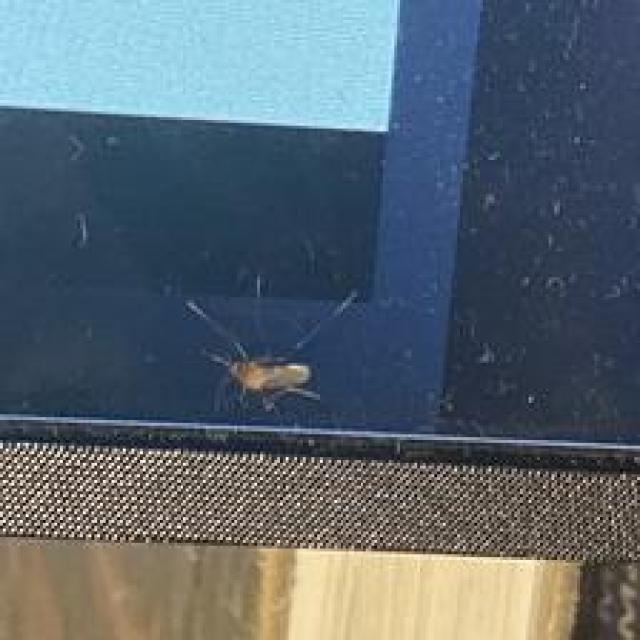Culex: (182, 273, 358, 416)
